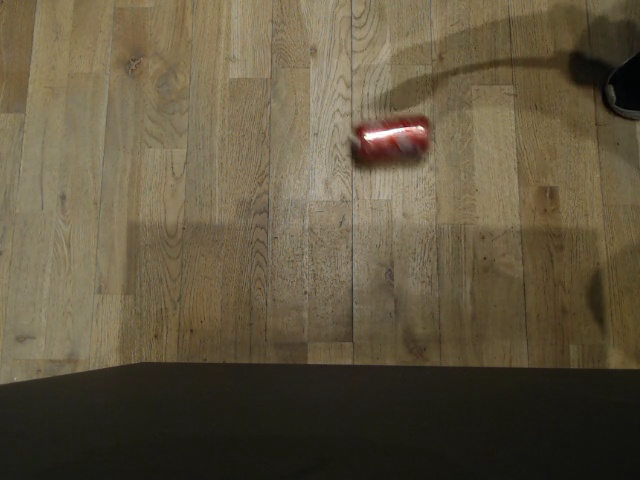cola: (347, 109, 434, 171)
